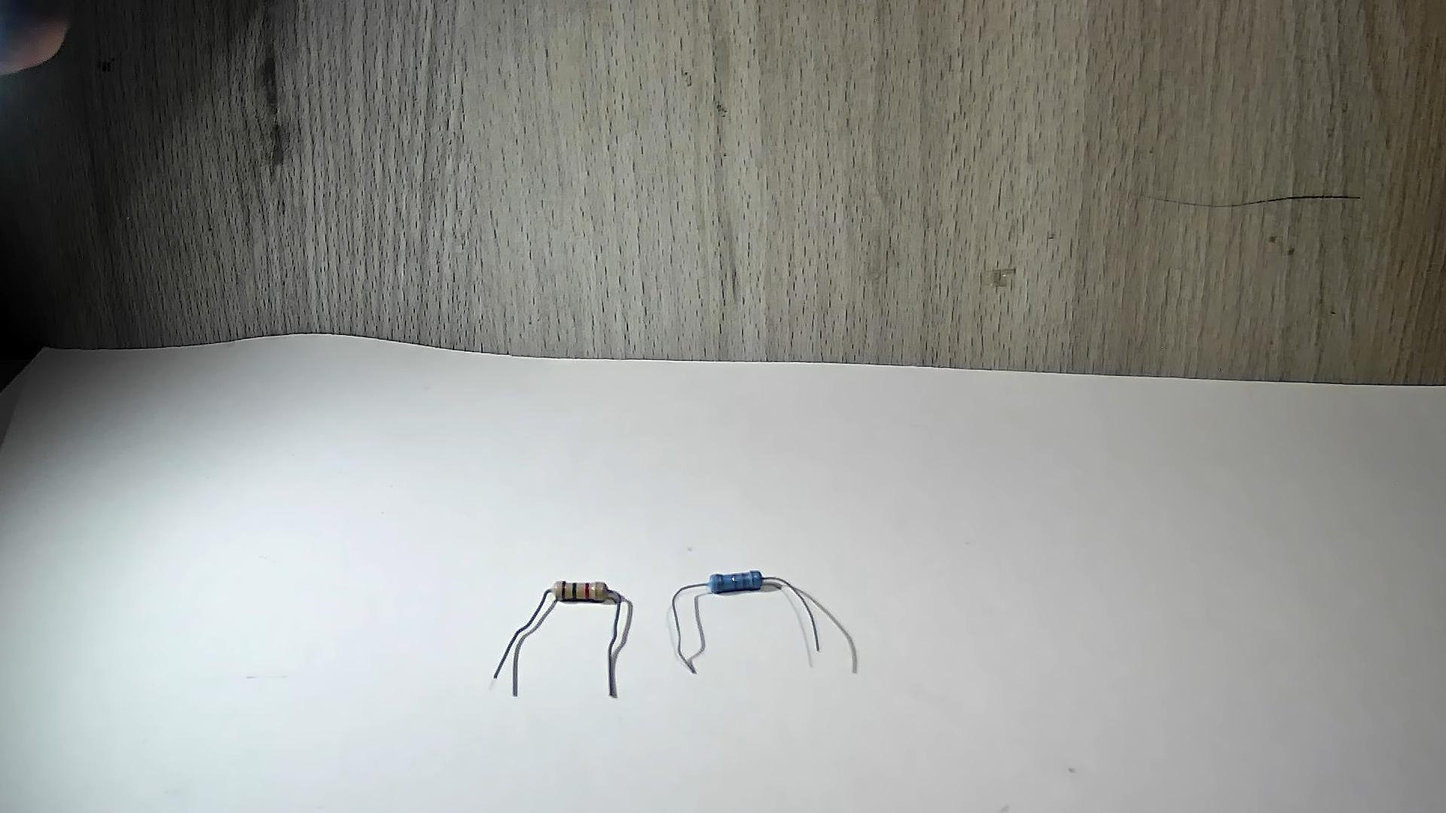Resistencia: (666, 543, 844, 681), (493, 550, 641, 708)
